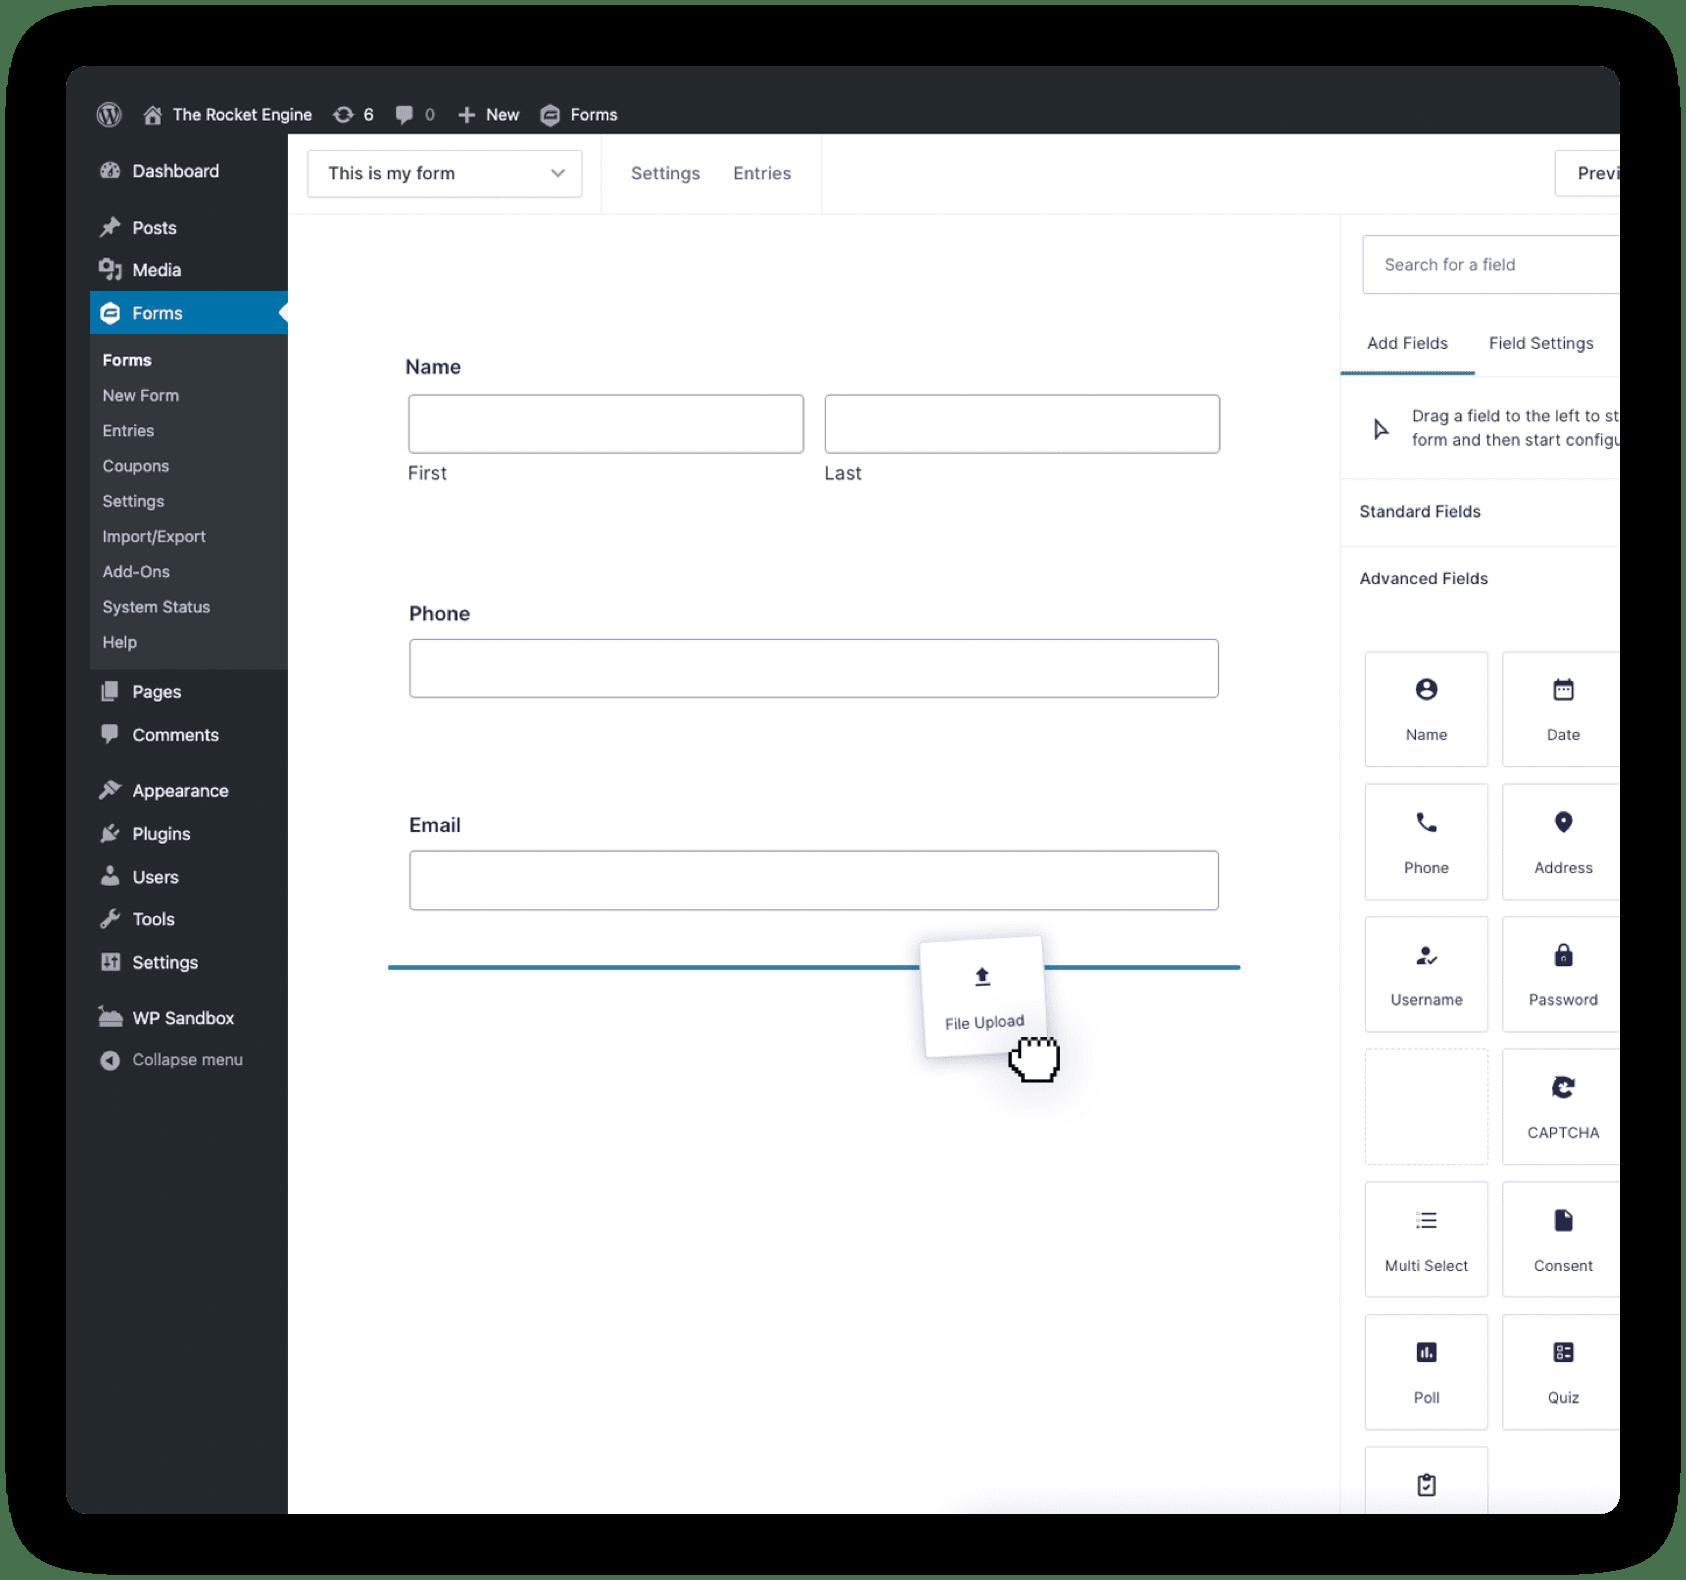dropdown: (306, 148, 584, 203)
icon: (1549, 1074, 1581, 1105), (1552, 1204, 1578, 1237), (1549, 941, 1578, 970), (1414, 1339, 1442, 1368), (97, 1002, 126, 1029), (97, 255, 125, 282), (100, 777, 125, 805), (1552, 677, 1578, 705), (1416, 809, 1441, 838), (1552, 1339, 1578, 1368), (1414, 1210, 1442, 1235), (97, 907, 123, 933), (1416, 676, 1441, 702), (100, 301, 123, 330), (1416, 1473, 1441, 1498), (98, 215, 122, 242), (1554, 808, 1575, 838), (1373, 414, 1392, 445), (100, 157, 123, 183), (395, 104, 420, 128), (538, 104, 562, 129), (100, 823, 123, 846), (100, 866, 123, 889), (100, 1050, 123, 1074), (1416, 946, 1439, 970), (98, 680, 120, 705), (331, 105, 357, 128), (143, 105, 166, 128), (100, 952, 122, 974), (458, 105, 478, 129), (101, 722, 119, 747)
input: (411, 640, 1221, 698), (410, 852, 1220, 910), (410, 396, 805, 453), (827, 396, 1223, 453)
label: (1482, 327, 1600, 359), (1364, 328, 1453, 359), (172, 107, 313, 126), (102, 526, 209, 546), (625, 162, 706, 189), (132, 1053, 247, 1071), (102, 598, 214, 616), (134, 1010, 236, 1029), (134, 781, 230, 800), (132, 160, 221, 181), (731, 157, 796, 186), (102, 385, 186, 405), (134, 726, 223, 744), (134, 257, 186, 284), (131, 953, 202, 973), (101, 493, 169, 512), (410, 604, 475, 624), (102, 457, 172, 475), (102, 563, 172, 581), (134, 301, 186, 325), (410, 817, 468, 838), (409, 358, 465, 379), (102, 350, 156, 370), (137, 826, 193, 843), (134, 685, 184, 704), (573, 105, 621, 125), (131, 869, 181, 887), (102, 423, 157, 440), (484, 105, 524, 128), (134, 220, 180, 238), (134, 910, 178, 927), (102, 634, 141, 652), (365, 105, 376, 123)
